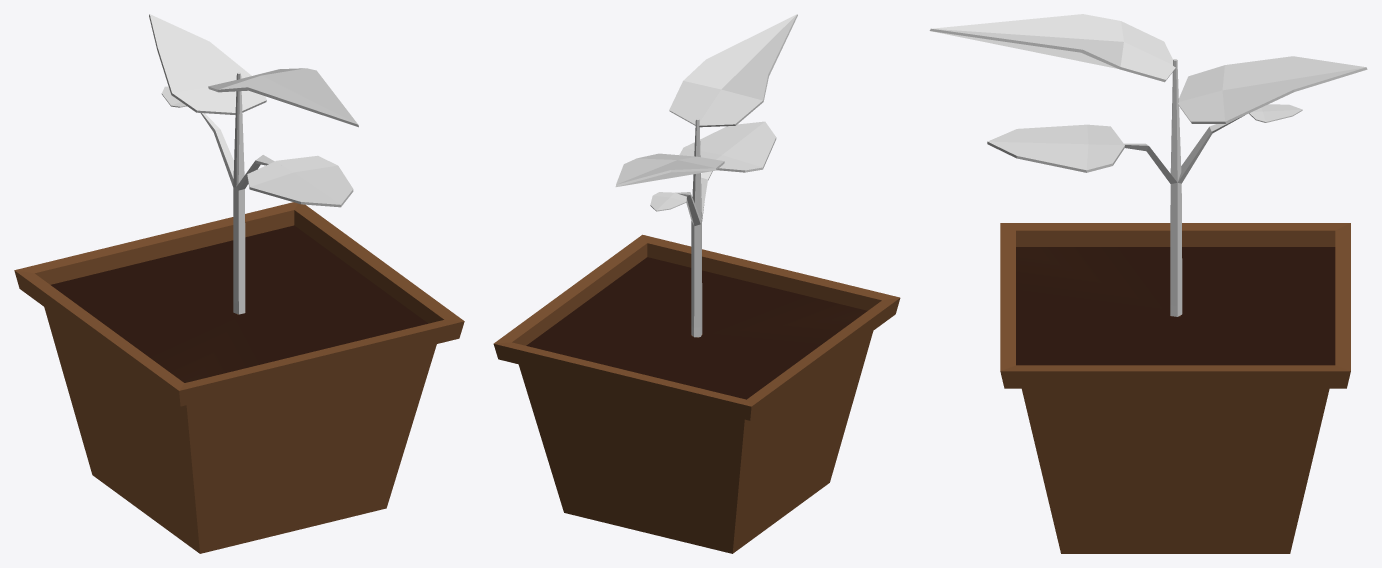
Rendered from planta_neon.fbx.
3 views of the same model, side by side, from view 1: azimuth 30°, elevation 25°; view 2: azimuth 150°, elevation 25°; view 3: azimuth 270°, elevation 25° (orthographic). The views are drawn at different scales.
Parts seen in each view (by area): view 1: Cylinder.002, Cylinder.003; view 2: Cylinder.002, Cylinder.003; view 3: Cylinder.002, Cylinder.003.
Boxes of the visible parts, x1,y1,x2,y2 form: Cylinder.002: [14, 202, 464, 553]; Cylinder.003: [149, 14, 358, 314]; Cylinder.002: [493, 234, 900, 553]; Cylinder.003: [615, 14, 797, 337]; Cylinder.002: [1000, 223, 1350, 553]; Cylinder.003: [929, 14, 1367, 316].
Bounding box in the file's own units: 0.7886 × 1.19 × 0.9851.
